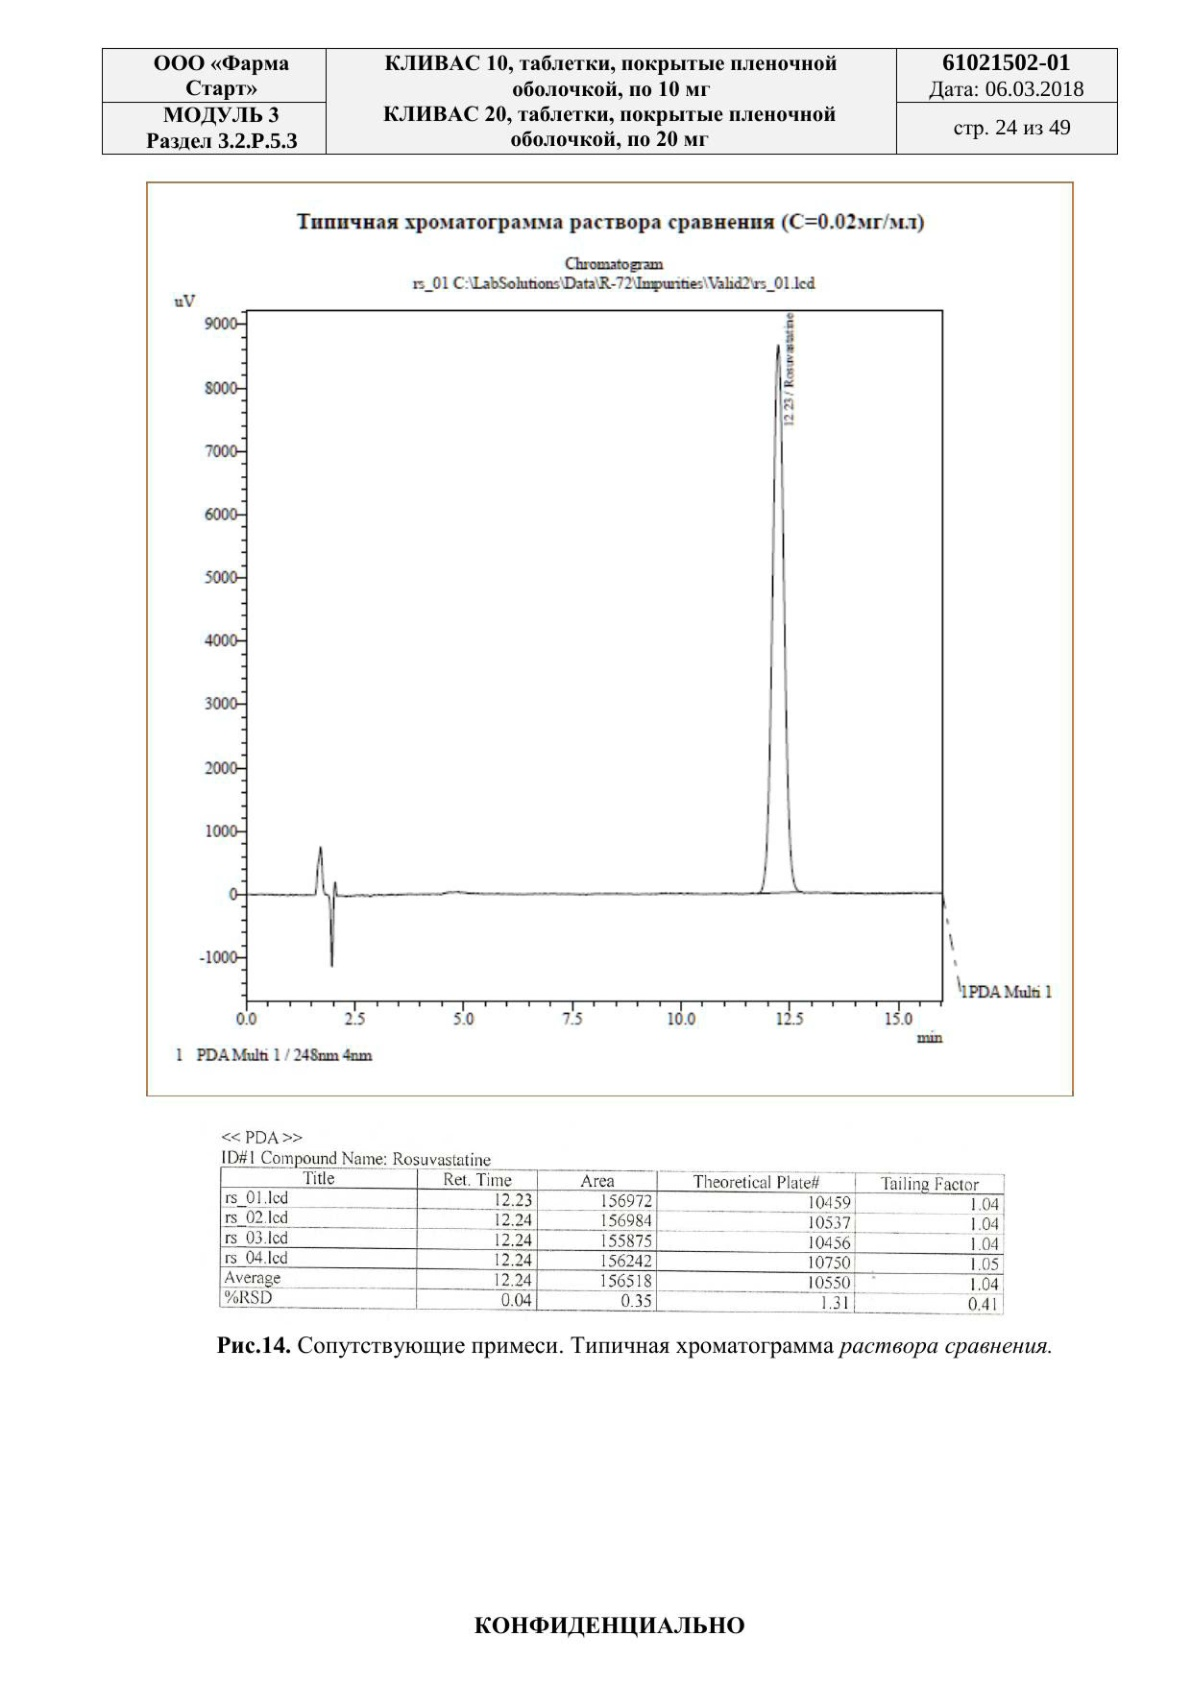full_lined: (218, 1166, 1005, 1316)
merged_cells: (101, 46, 1118, 155)
